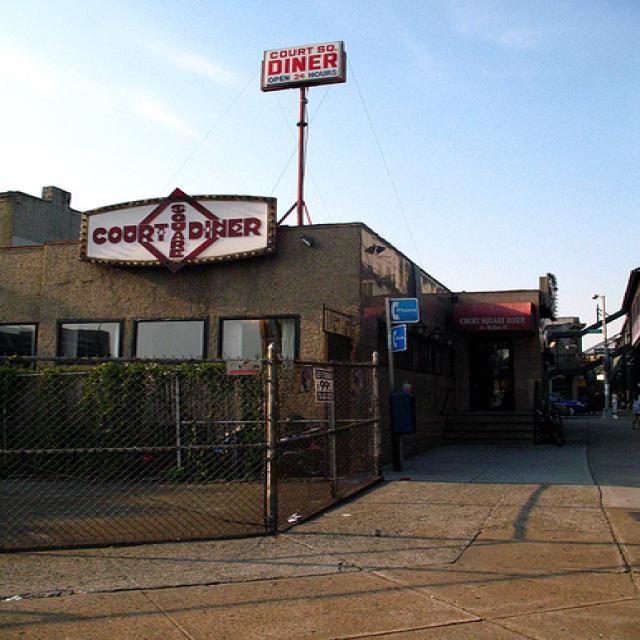Vehicle: (560, 400, 586, 416)
